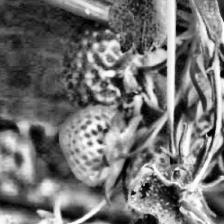Gray Mold: (124, 126, 224, 224)
